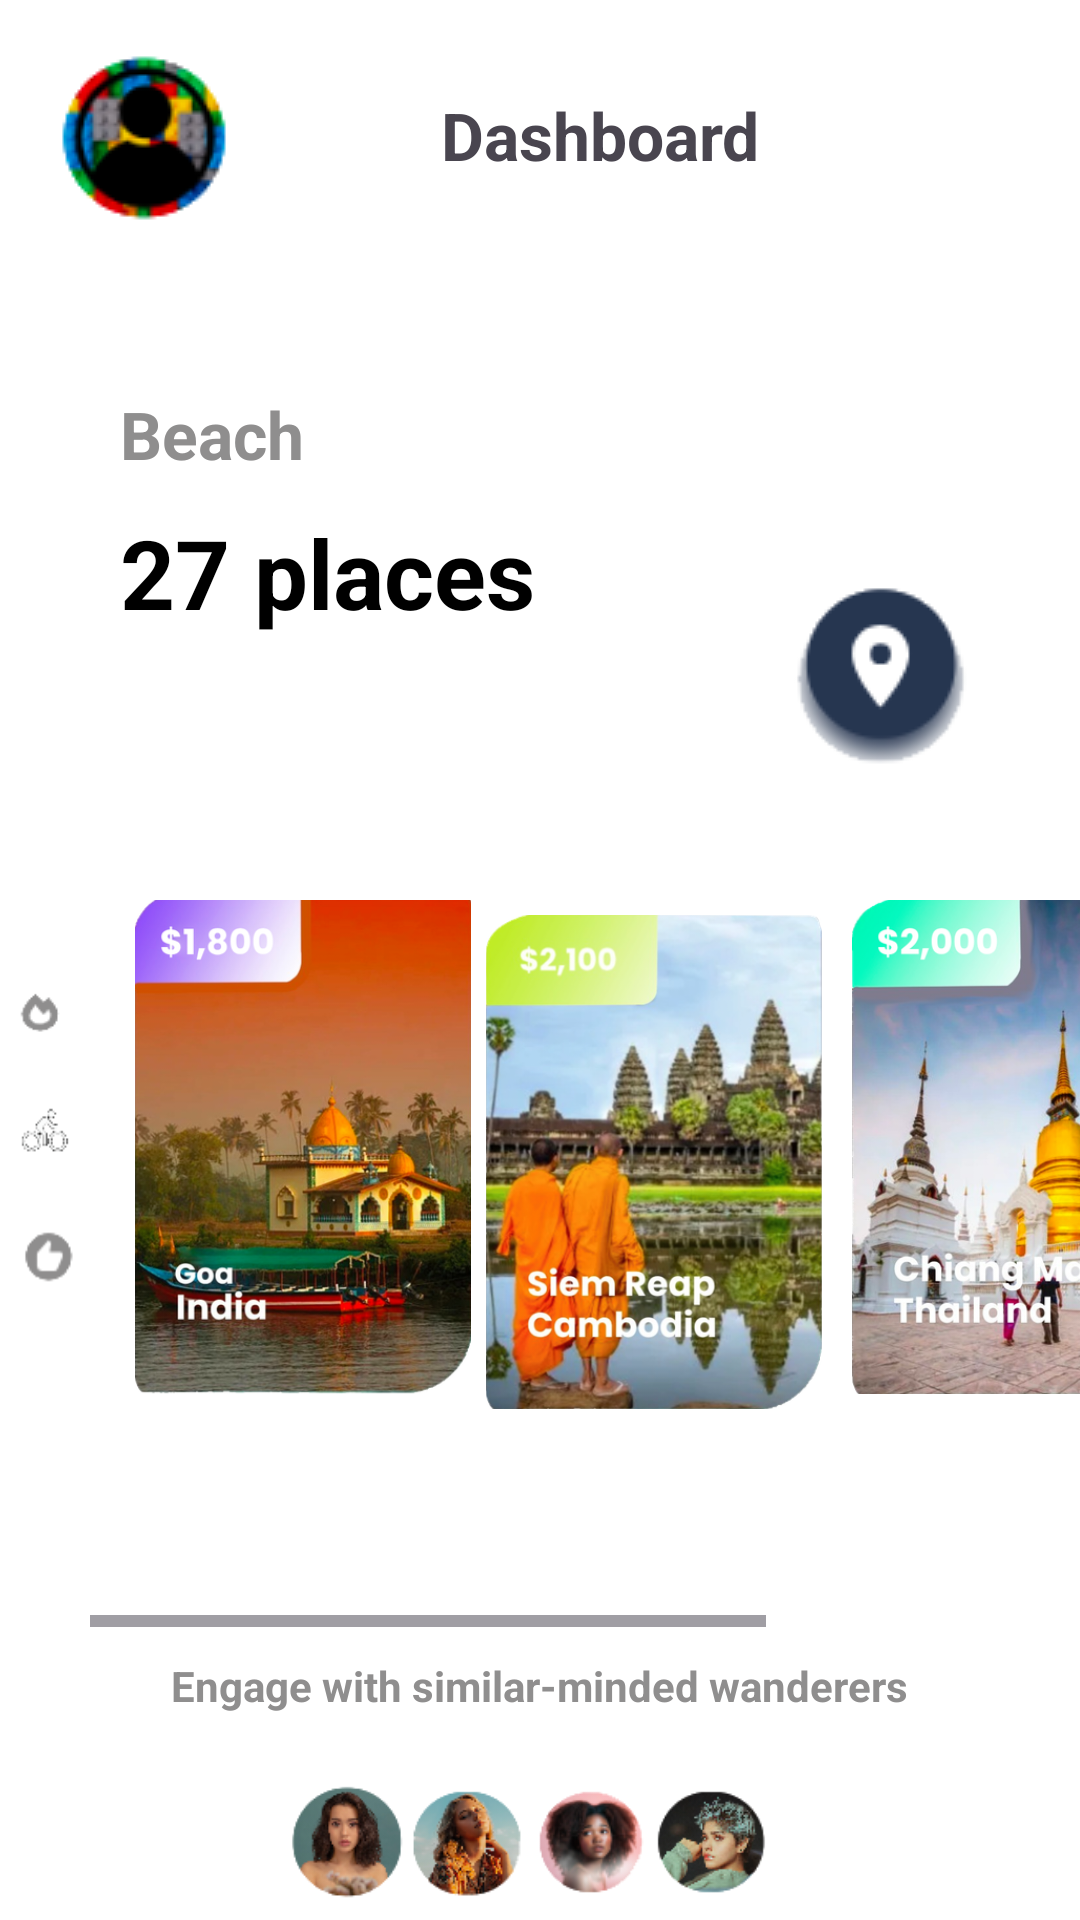

Named icons in this screenshot (1080×1920) and their bounding boxes, box(x1, y1, x2, y2):
cycles: box(22, 1108, 69, 1152)
fires: box(21, 994, 58, 1032)
locations: box(798, 588, 964, 761)
person: box(62, 56, 226, 220)
thumbs: box(25, 1232, 73, 1281)
